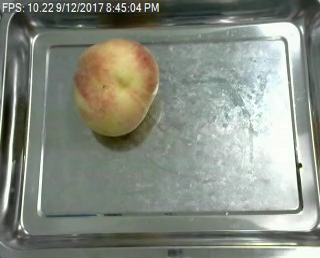Peach: (73, 38, 159, 137)
